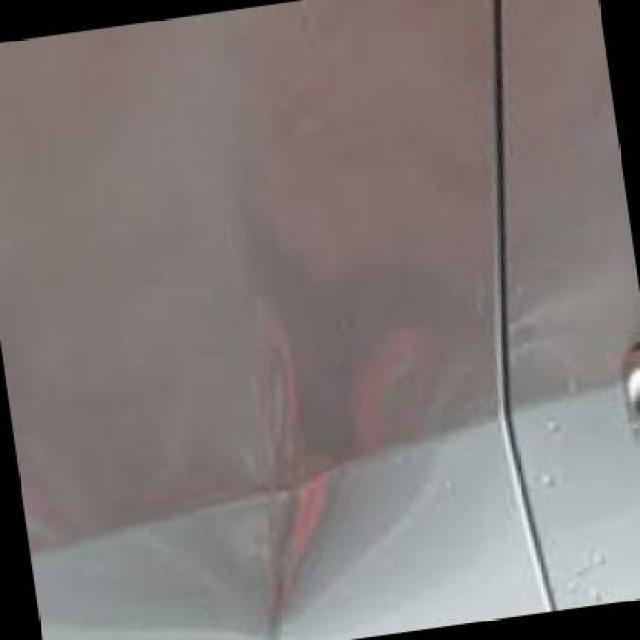dent: (263, 263, 449, 638)
